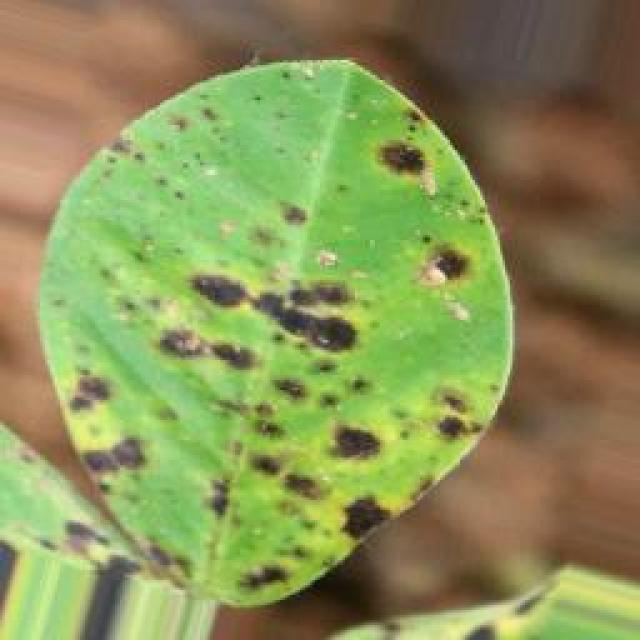Yellowish: (7, 49, 555, 567)
